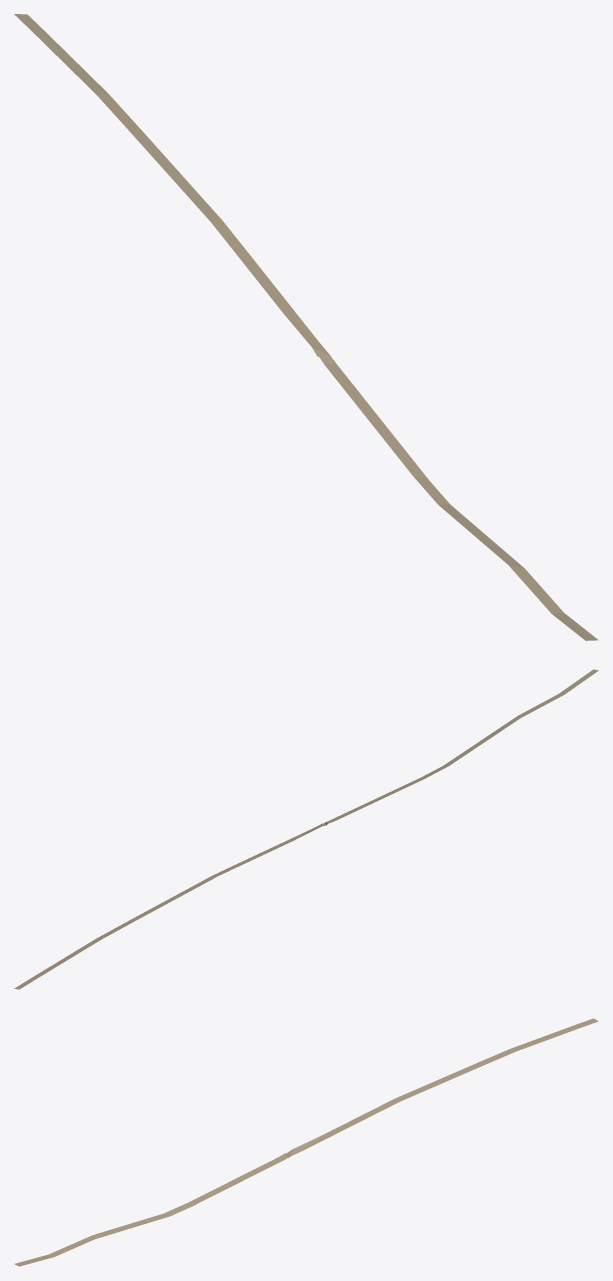
Rendered from farm_2_18_track.glb.
3 views of the same model, one above another, from view 1: azimuth 30°, elevation 25°; view 2: azimuth 150°, elevation 25°; view 3: azimuth 330°, elevation 25° (orthographic). The views are drawn at different scales.
Parts seen in each view (by area): view 1: geometry_0; view 2: geometry_0; view 3: geometry_0.
Part boxes in pixels (x1,y1,x2,y2): geometry_0: (14, 14, 598, 640); geometry_0: (14, 669, 598, 989); geometry_0: (14, 1018, 598, 1266).
Size of the model in its own units: 80.87 by 19.29 by 402.
